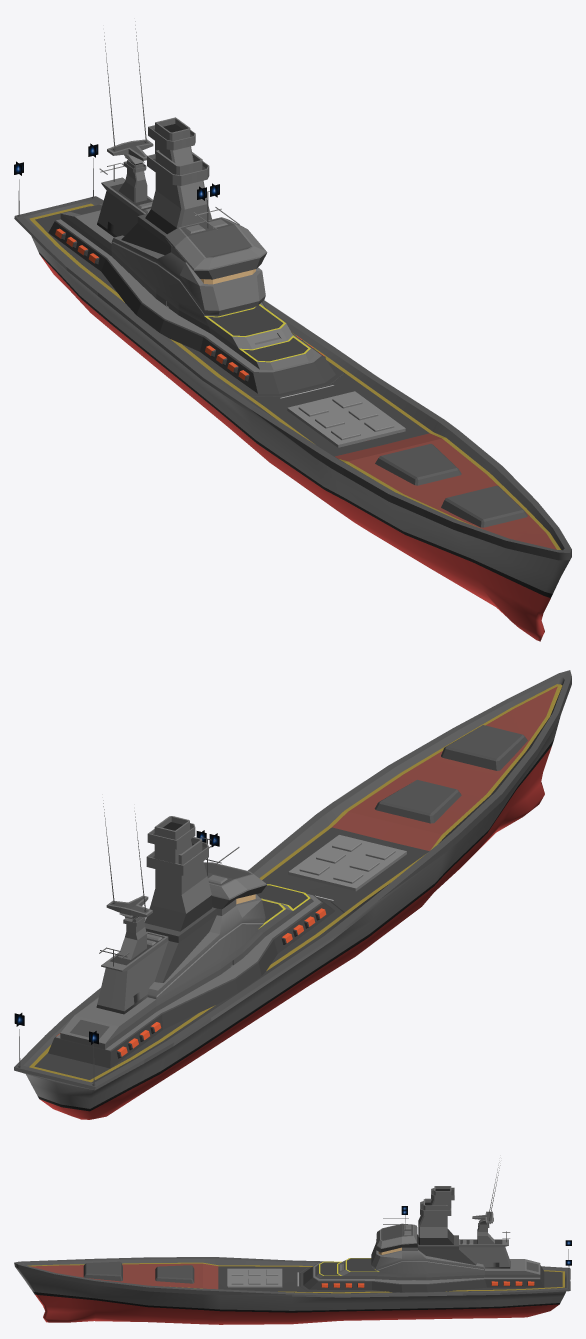
The model's file is model_polyfleet_battleship04.fbx.
3 renders of one model, top to bottom at view 1: azimuth 30°, elevation 25°; view 2: azimuth 150°, elevation 25°; view 3: azimuth 270°, elevation 25°, orthographic. The views are drawn at different scales.
Visible parts, largest first — view 1: model_batteship04, emissivelight; view 2: model_batteship04, emissivelight; view 3: model_batteship04.
Boxes of the visible parts, left/top/right/bottom form: model_batteship04: left=14, top=21, right=571, bottom=641; emissivelight: left=14, top=143, right=255, bottom=284; model_batteship04: left=14, top=670, right=571, bottom=1119; emissivelight: left=14, top=830, right=255, bottom=1044; model_batteship04: left=14, top=1162, right=570, bottom=1324.
Bounding box in the file's own units: 1230 × 2850 × 8477.
